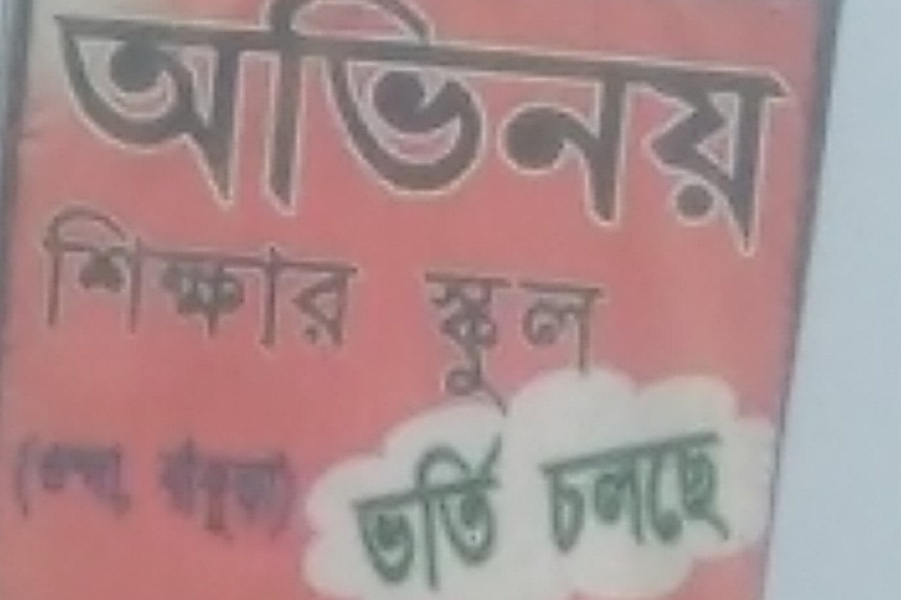text: (65, 1, 80, 266), (81, 1, 96, 266), (97, 1, 112, 266), (113, 1, 128, 266), (129, 1, 144, 266), (145, 1, 160, 266), (161, 1, 176, 266), (177, 1, 192, 266), (193, 1, 208, 266), (209, 1, 224, 266), (225, 1, 240, 266), (241, 1, 256, 266), (257, 1, 272, 266), (273, 1, 288, 266), (289, 1, 304, 266), (305, 1, 320, 266), (321, 1, 336, 266), (337, 1, 352, 266), (353, 1, 368, 266), (369, 1, 384, 266), (385, 1, 400, 266), (401, 1, 416, 266), (417, 1, 432, 266), (433, 1, 448, 266), (449, 1, 464, 266), (465, 1, 480, 266), (481, 1, 496, 266), (497, 1, 512, 266), (513, 1, 528, 266), (529, 1, 544, 266), (545, 1, 560, 266), (561, 1, 576, 266), (577, 1, 592, 266), (593, 1, 608, 266), (609, 1, 624, 266), (625, 1, 640, 266), (641, 1, 656, 266), (657, 1, 672, 266), (673, 1, 688, 266), (689, 1, 704, 266), (705, 1, 720, 266), (721, 1, 736, 266), (737, 1, 752, 266), (753, 1, 768, 266), (769, 1, 784, 266), (785, 1, 800, 266), (53, 1, 64, 266), (337, 423, 352, 599), (353, 423, 368, 599), (369, 423, 384, 599), (385, 423, 400, 599), (401, 423, 416, 599), (417, 423, 432, 599), (433, 423, 448, 599), (449, 423, 464, 599), (465, 423, 480, 599), (481, 423, 496, 599), (497, 423, 512, 599), (513, 423, 528, 599), (49, 196, 64, 369), (65, 196, 80, 369), (81, 196, 96, 369), (97, 196, 112, 369), (113, 196, 128, 369), (129, 196, 144, 369), (145, 196, 160, 369), (161, 196, 176, 369), (177, 196, 192, 369), (193, 196, 208, 369), (209, 196, 224, 369), (225, 196, 240, 369), (241, 196, 256, 369), (257, 196, 272, 369), (273, 196, 288, 369), (289, 196, 304, 369), (305, 196, 320, 369), (321, 196, 336, 369), (337, 196, 352, 369), (353, 196, 367, 369), (417, 263, 432, 423), (433, 263, 448, 423), (449, 263, 464, 423), (465, 263, 480, 423), (481, 263, 496, 423), (497, 263, 512, 423), (513, 263, 528, 423), (529, 263, 544, 423), (545, 263, 560, 423), (561, 263, 576, 423), (577, 263, 592, 423), (593, 263, 608, 423), (529, 420, 544, 564), (545, 420, 560, 564), (561, 420, 576, 564), (577, 420, 592, 564), (593, 420, 608, 564), (609, 420, 624, 564), (625, 420, 640, 564), (641, 420, 656, 564), (657, 420, 672, 564), (673, 420, 688, 564), (689, 420, 704, 564), (705, 420, 720, 564), (721, 420, 736, 564), (161, 431, 176, 551), (177, 431, 192, 551), (193, 431, 208, 551), (209, 431, 224, 551), (225, 431, 240, 551), (241, 431, 256, 551), (257, 431, 272, 551), (273, 431, 288, 551), (609, 263, 620, 423), (38, 196, 48, 369), (33, 425, 48, 536), (49, 425, 64, 536), (65, 425, 80, 536), (81, 425, 96, 536), (97, 425, 112, 536), (113, 425, 128, 536), (737, 420, 748, 564), (148, 431, 160, 551), (22, 425, 32, 536), (129, 425, 137, 536), (289, 431, 295, 551), (332, 423, 336, 599), (414, 263, 416, 423), (801, 1, 802, 266), (529, 423, 530, 599)
